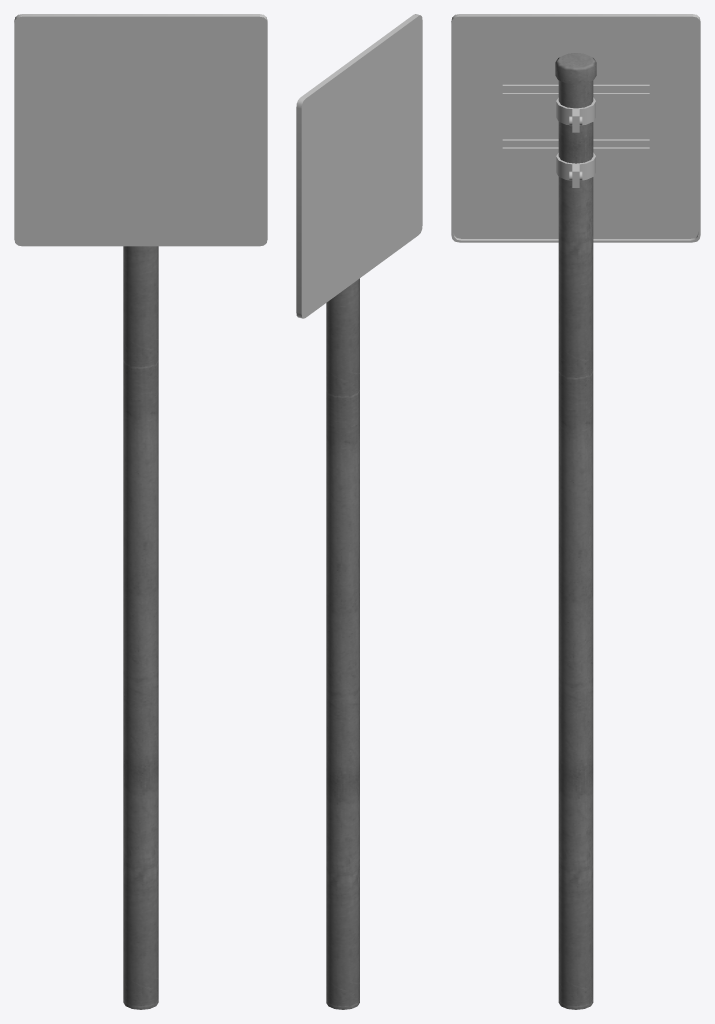
Rendered from SM_SquarePole.fbx.
3 renders of one model, left to right at view 1: azimuth 90°, elevation 25°; view 2: azimuth 150°, elevation 25°; view 3: azimuth 270°, elevation 25°, orthographic. The views are drawn at different scales.
Parts seen in each view (by area): view 1: SM_SquarePole_LOD0; view 2: SM_SquarePole_LOD0; view 3: SM_SquarePole_LOD0.
Boxes of the visible parts, bbox=[...] form: SM_SquarePole_LOD0: bbox=[14, 14, 267, 1009]; SM_SquarePole_LOD0: bbox=[296, 14, 422, 1009]; SM_SquarePole_LOD0: bbox=[451, 14, 700, 1009].
Bounding box in the file's own units: 14.13 × 60 × 260.
